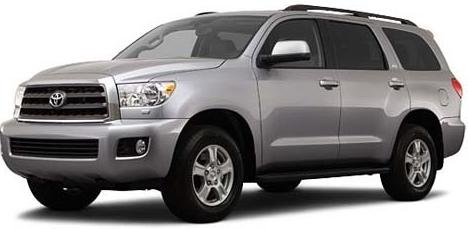backlight: (450, 75, 466, 100)
front_view: (4, 75, 208, 202)
headlight: (111, 79, 177, 115)
side_glass: (252, 16, 390, 71)
